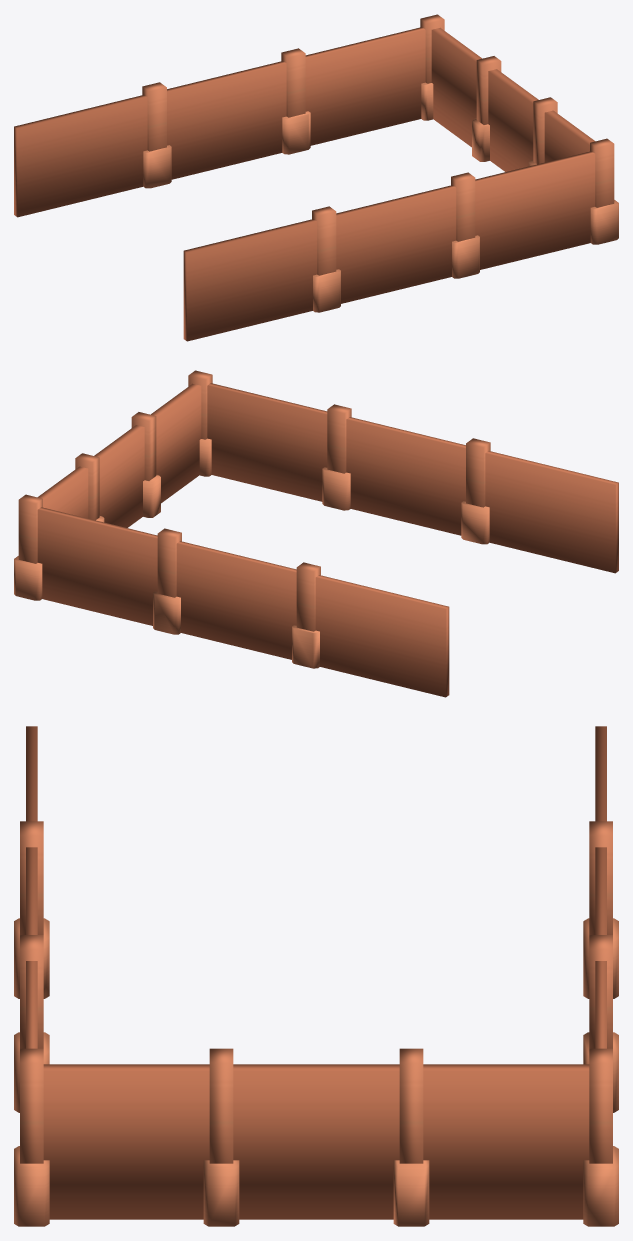
The model's file is n1_fence-3x3_lev1.glb.
The picture shows the model from 3 angles, top to bottom: view 1: azimuth 30°, elevation 25°; view 2: azimuth 150°, elevation 25°; view 3: azimuth 270°, elevation 25°; orthographic projection. The views are drawn at different scales.
Parts seen in each view (by area): view 1: n1_fence-3x3_lev1; view 2: n1_fence-3x3_lev1; view 3: n1_fence-3x3_lev1.
Part boxes in pixels (box(x1,y1,x2,y2)): n1_fence-3x3_lev1: box(14, 14, 618, 341); n1_fence-3x3_lev1: box(14, 370, 618, 697); n1_fence-3x3_lev1: box(14, 726, 618, 1226).
Bounding box in the file's own units: 9.59 × 2.03 × 6.96.
Materials: 1 (1 with a texture image).
